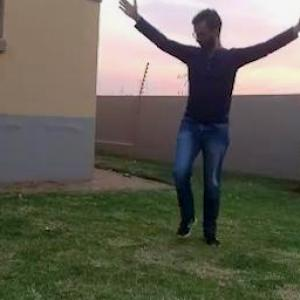takeoff: (115, 0, 299, 263)
